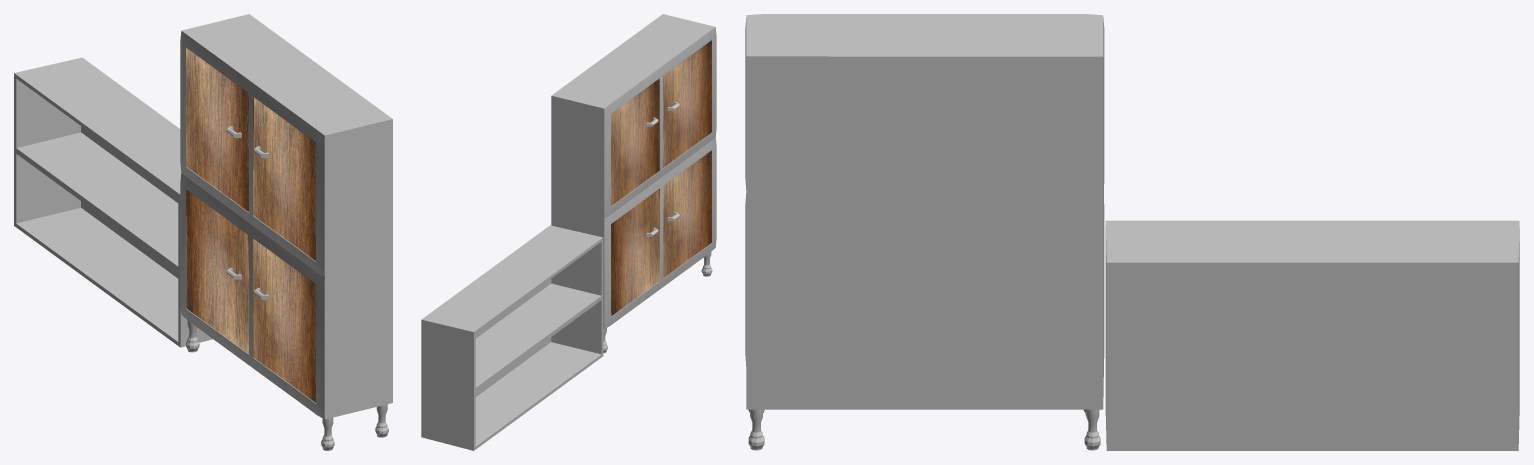
File: placard_sol_02.FBX
3 renders of one model, left to right at view 1: azimuth 30°, elevation 25°; view 2: azimuth 150°, elevation 25°; view 3: azimuth 270°, elevation 25°, orthographic. The views are drawn at different scales.
Parts seen in each view (by area): view 1: Etagere_meuble_gauche; view 2: Etagere_meuble_gauche; view 3: Etagere_meuble_gauche.
Boxes of the visible parts, x1,y1,x2,y2 form: Etagere_meuble_gauche: [14, 14, 392, 450]; Etagere_meuble_gauche: [421, 14, 716, 450]; Etagere_meuble_gauche: [745, 14, 1519, 450].
Size of the model in its own units: 23.35 by 92.34 by 164.
